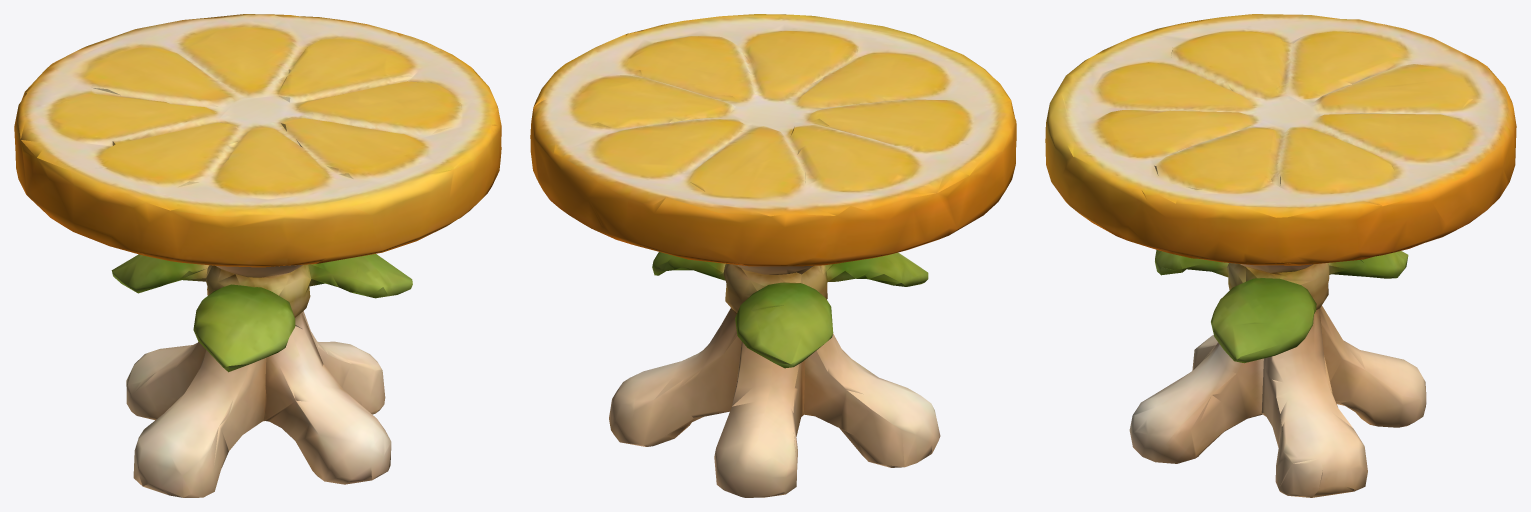
File: table13.glb
The picture shows the model from 3 angles, left to right: view 1: azimuth 30°, elevation 25°; view 2: azimuth 150°, elevation 25°; view 3: azimuth 270°, elevation 25°; orthographic projection.
Size of the model in its own units: 0.2091 by 0.157 by 0.2048.
1 material, 1 textured.
